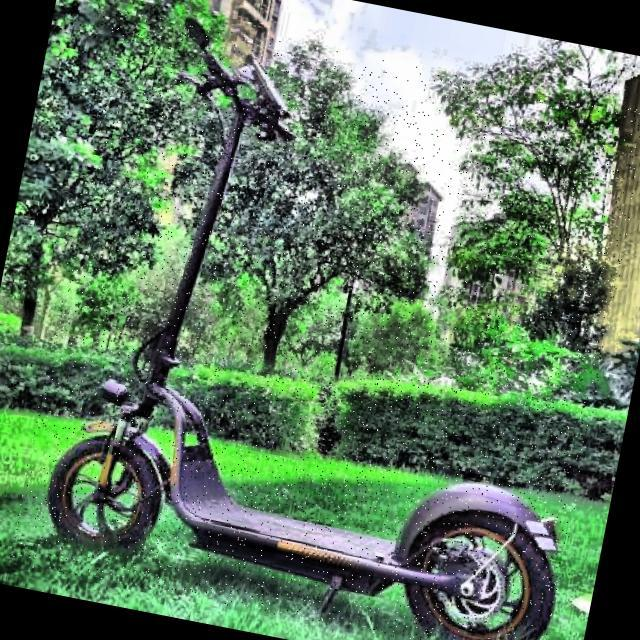bike: (46, 344, 559, 640)
